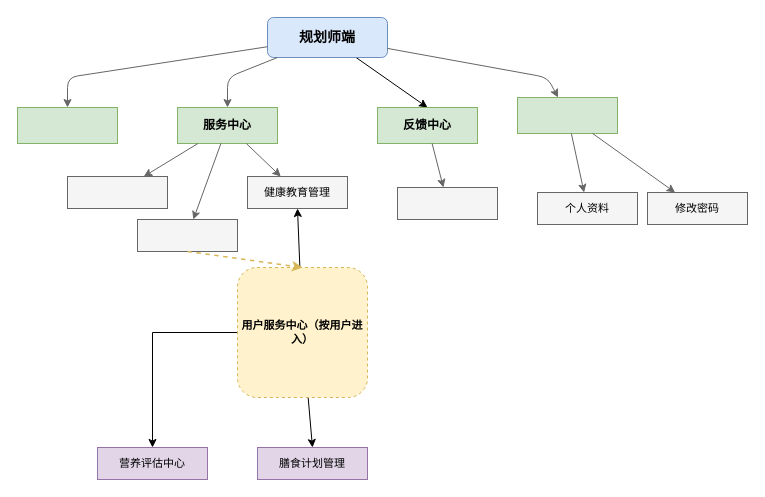
Some shapes in this 765 by 497 pixel diagram are drawn without their labels. Here are the shapes that lost their labels. From the top down, the box of each, then its label:
(16, 106, 118, 144): 首页
(516, 96, 618, 134): 我的
(66, 176, 168, 208): 服务申请管理
(396, 186, 498, 220): 反馈管理
(136, 218, 238, 252): 用户列表
